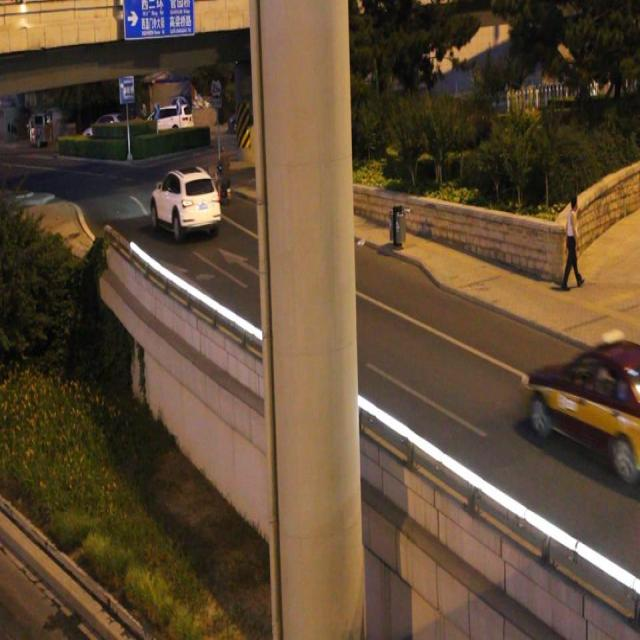car: (520, 326, 640, 471), (151, 166, 221, 238)
